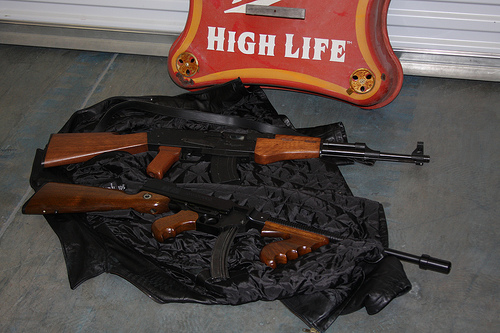rifle: (21, 182, 451, 283), (29, 80, 457, 171)
